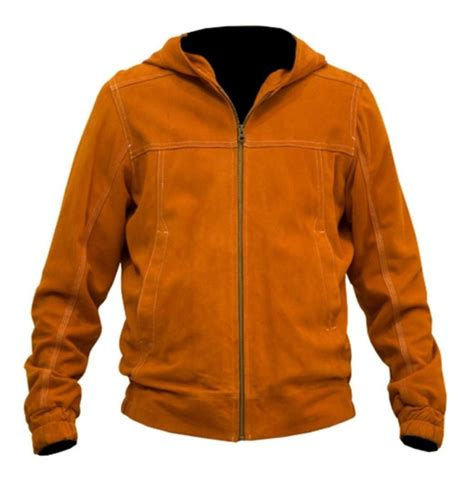gamuza: (24, 25, 448, 456)
